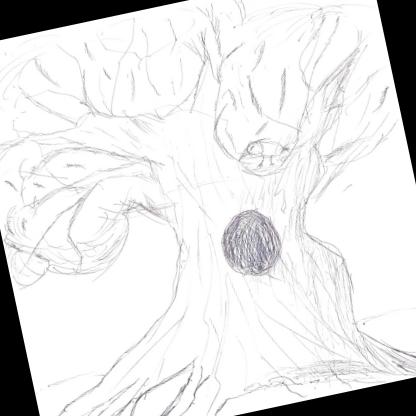bird: (230, 130, 292, 175)
branch_line: (0, 0, 407, 255)
crown_cloud: (0, 0, 416, 290)
root_upside: (30, 286, 416, 416)
trunk_bark: (139, 189, 363, 353)
